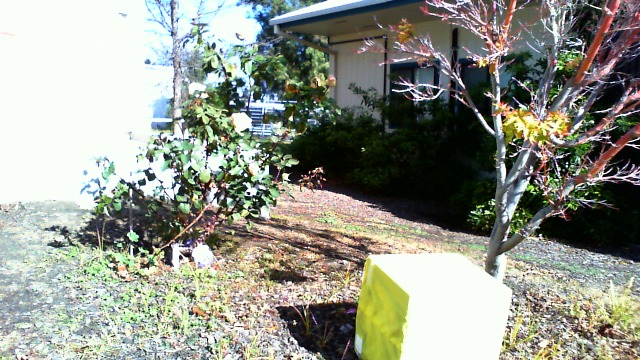cube: (349, 253, 513, 360)
